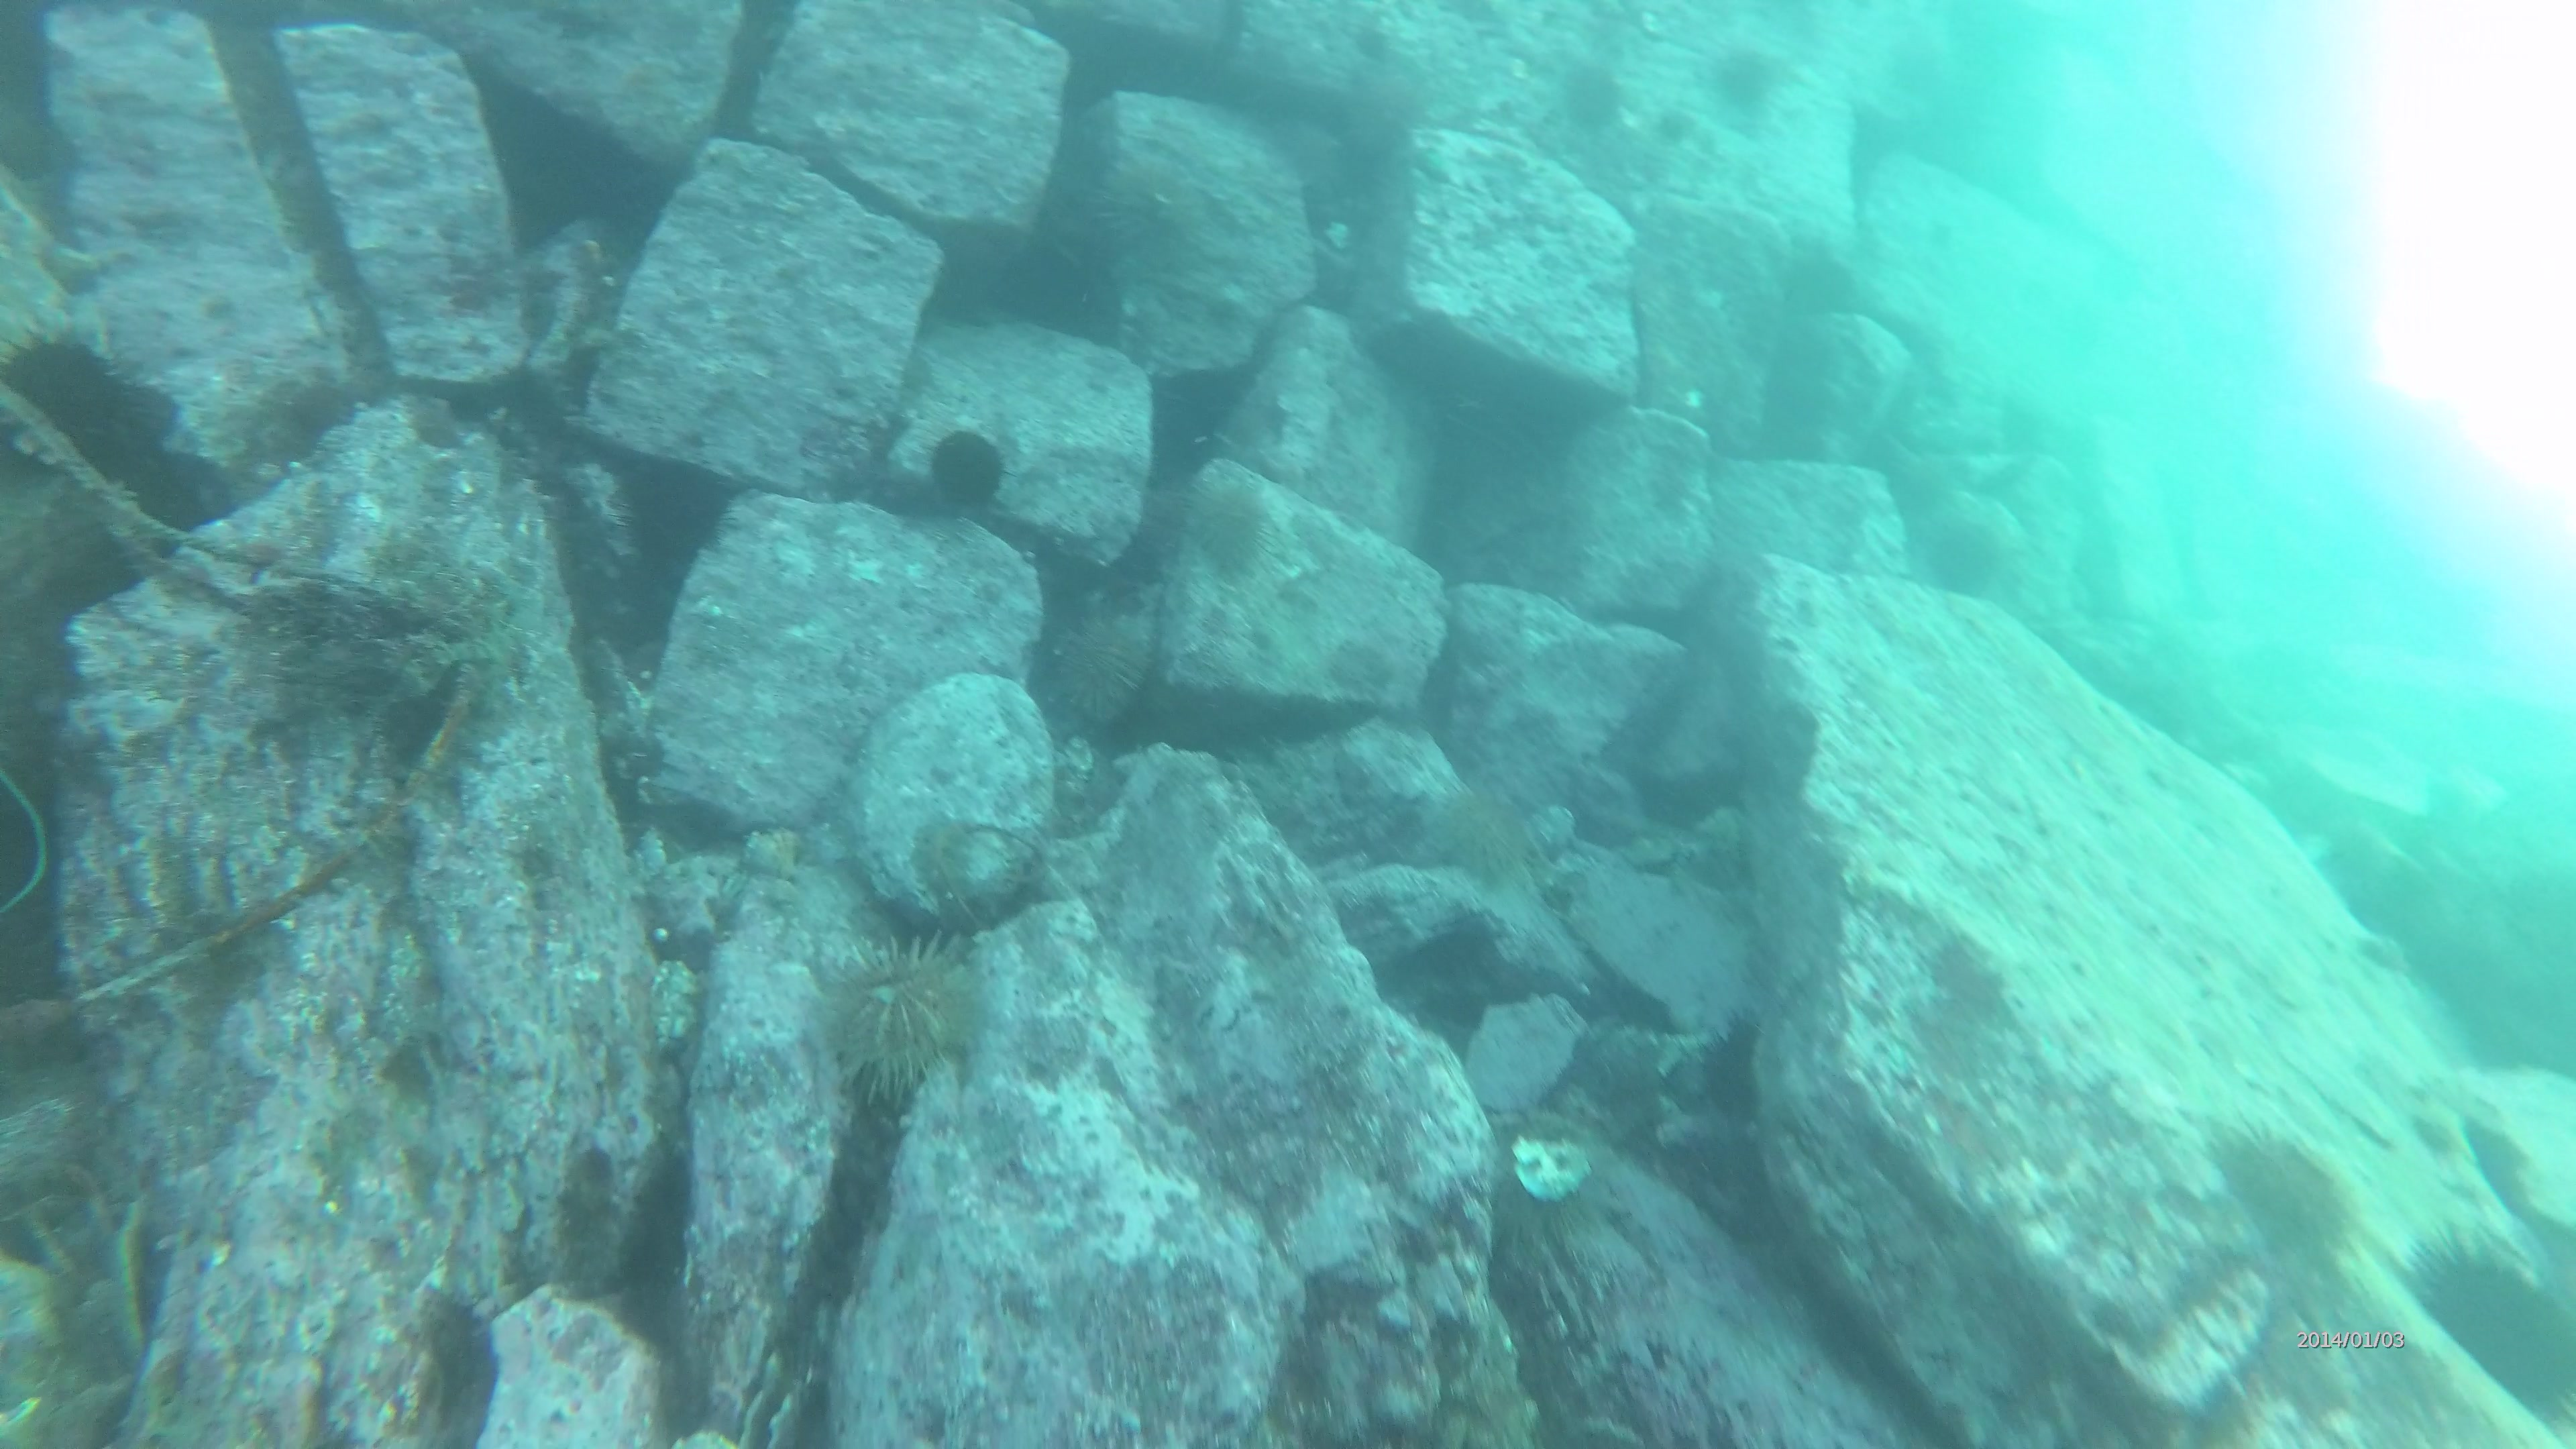echinus: (816, 916, 982, 1108), (2204, 1113, 2374, 1288), (0, 313, 136, 472), (1417, 763, 1550, 902), (1046, 596, 1157, 736)
